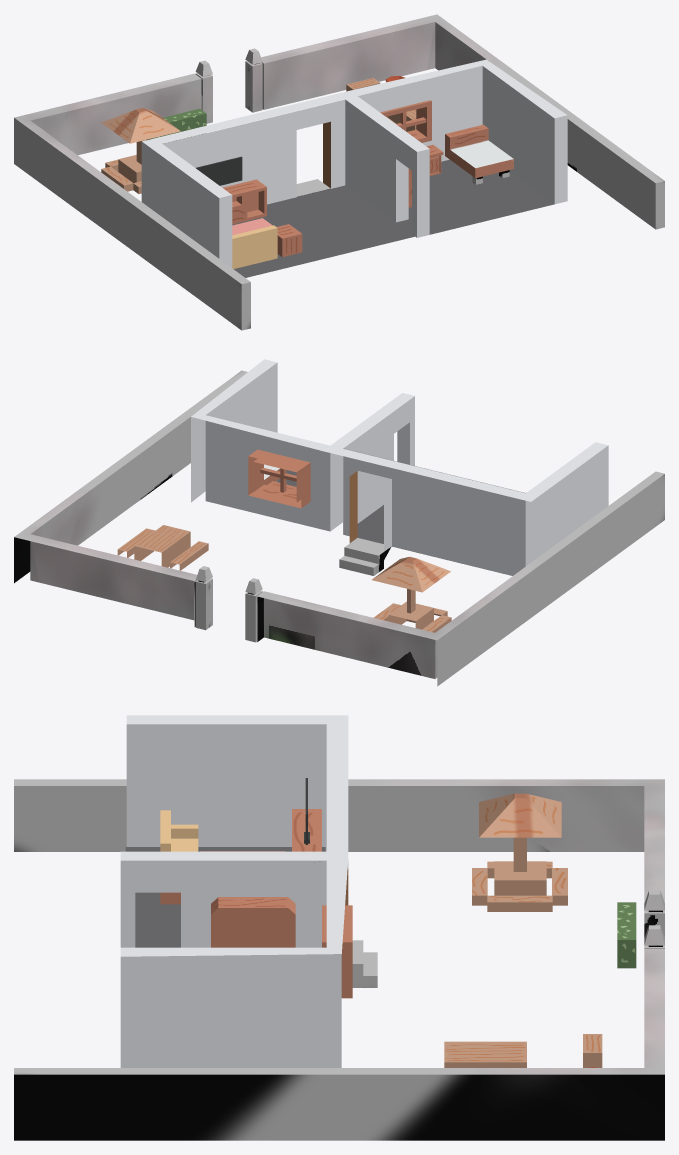
File: gate.fbx
The picture shows the model from 3 angles, top to bottom: view 1: azimuth 30°, elevation 25°; view 2: azimuth 150°, elevation 25°; view 3: azimuth 270°, elevation 25°; orthographic projection. The views are drawn at different scales.
Parts seen in each view (by area): view 1: Cube.001; view 2: Cube.001; view 3: Cube.001.
Boxes of the visible parts, x1=… form: Cube.001: x1=14, y1=14, x2=664, y2=330; Cube.001: x1=14, y1=359, x2=664, y2=686; Cube.001: x1=14, y1=715, x2=664, y2=1140.
Size of the model in its own units: 1676 by 388 by 1562.
